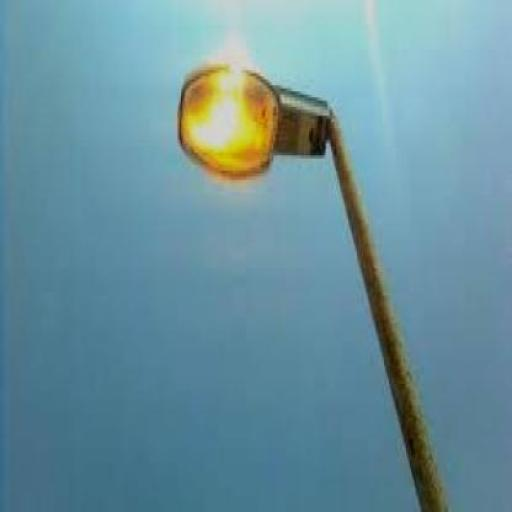street light: (176, 62, 456, 510)
